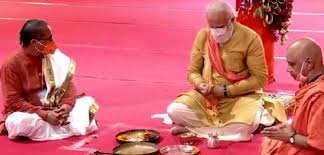Caution: (167, 1, 324, 155)
Good: (1, 1, 272, 134)
